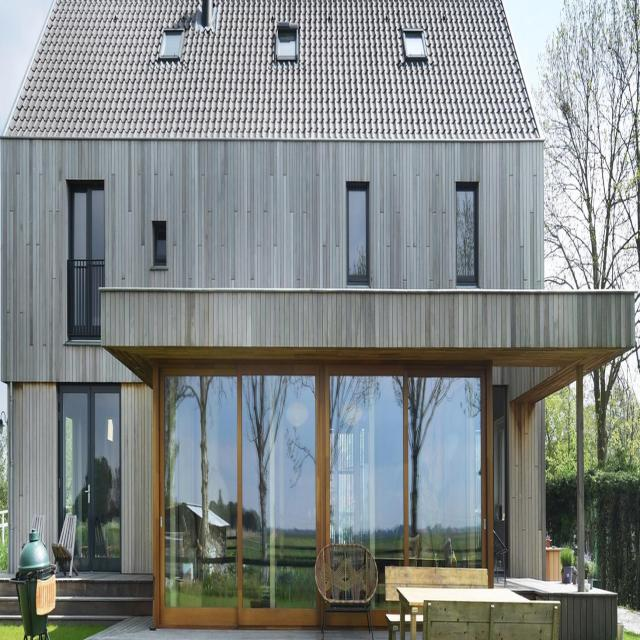door: (56, 389, 120, 575)
railing: (69, 256, 103, 335)
window: (162, 368, 485, 625), (68, 181, 105, 331), (455, 181, 477, 283), (349, 179, 370, 285), (155, 229, 165, 264)
